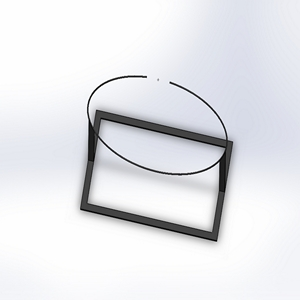circle: (76, 71, 235, 243)
